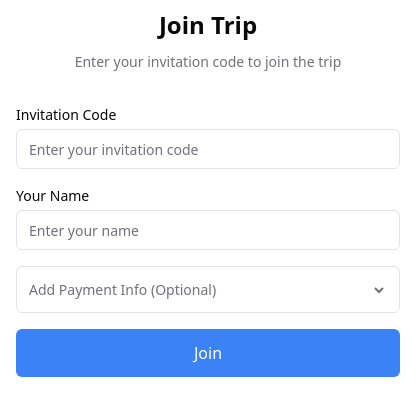
JoinPage › submission › should show loading state while submitting
Type "abc123" into the field labelled "Invitation Code".
click(208, 149); type("abc123")  # box [16,129,400,169]
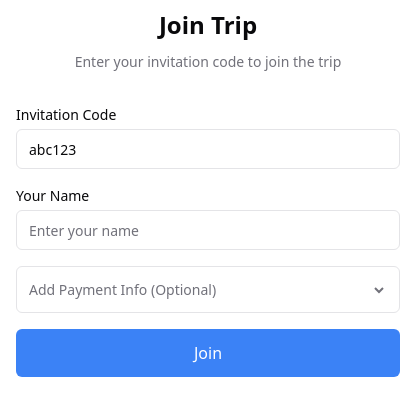
Type "John Doe" into the field labelled "Your Name".
click(208, 230); type("John Doe")  # box [16,210,400,250]
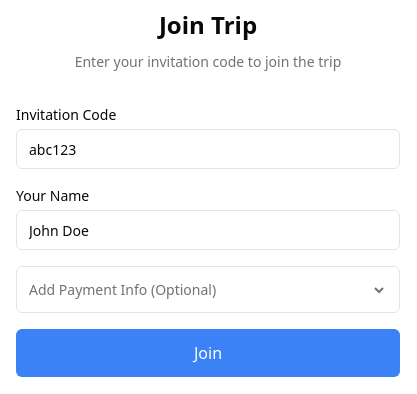
Click the button "Join".
click(208, 353)  # box [16,329,400,377]
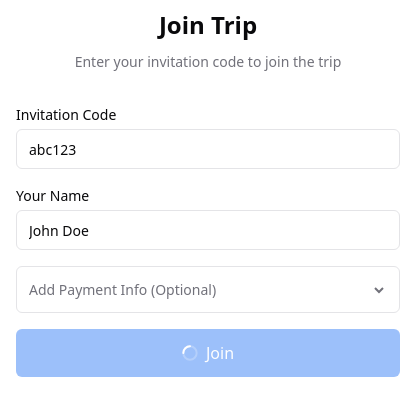
Check: the button "Join" is disabled, box [16,329,400,377]
